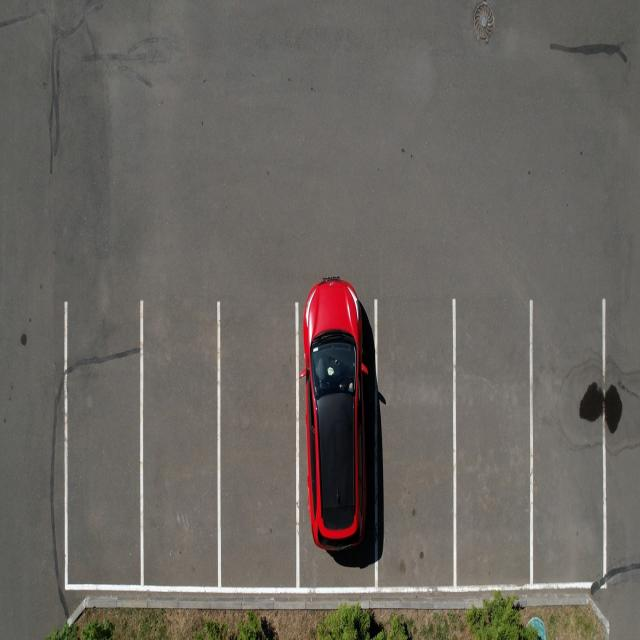space-empty: (451, 297, 534, 586), (139, 300, 221, 588), (219, 300, 299, 590), (63, 304, 144, 589), (528, 298, 608, 586), (378, 294, 456, 585)
space-occupied: (296, 292, 376, 577)
